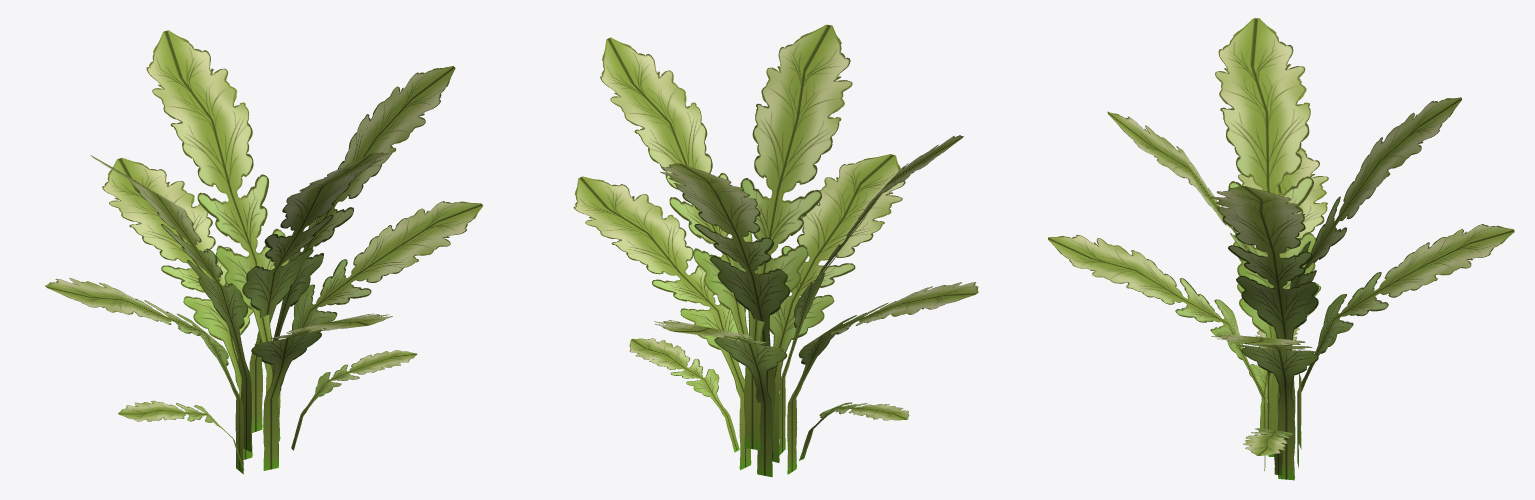
Rendered from Radish_Stage_2.fbx.
The picture shows the model from 3 angles, left to right: view 1: azimuth 30°, elevation 25°; view 2: azimuth 150°, elevation 25°; view 3: azimuth 270°, elevation 25°; orthographic projection.
Visible parts, largest first — view 1: Radish_Level2; view 2: Radish_Level2; view 3: Radish_Level2.
Boxes of the visible parts, box(x1,y1,x2,y2) form: Radish_Level2: box(45, 30, 482, 474); Radish_Level2: box(573, 24, 978, 477); Radish_Level2: box(1048, 18, 1514, 480).
Size of the model in its own units: 141 by 116 by 136.
1 material, 1 textured.
